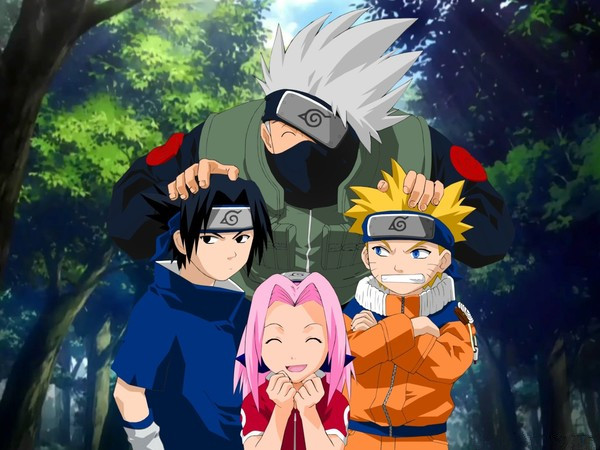kakashi: (261, 87, 362, 197)
naruto: (359, 210, 457, 298)
sakura: (251, 269, 337, 383)
sasuke: (171, 201, 258, 286)
